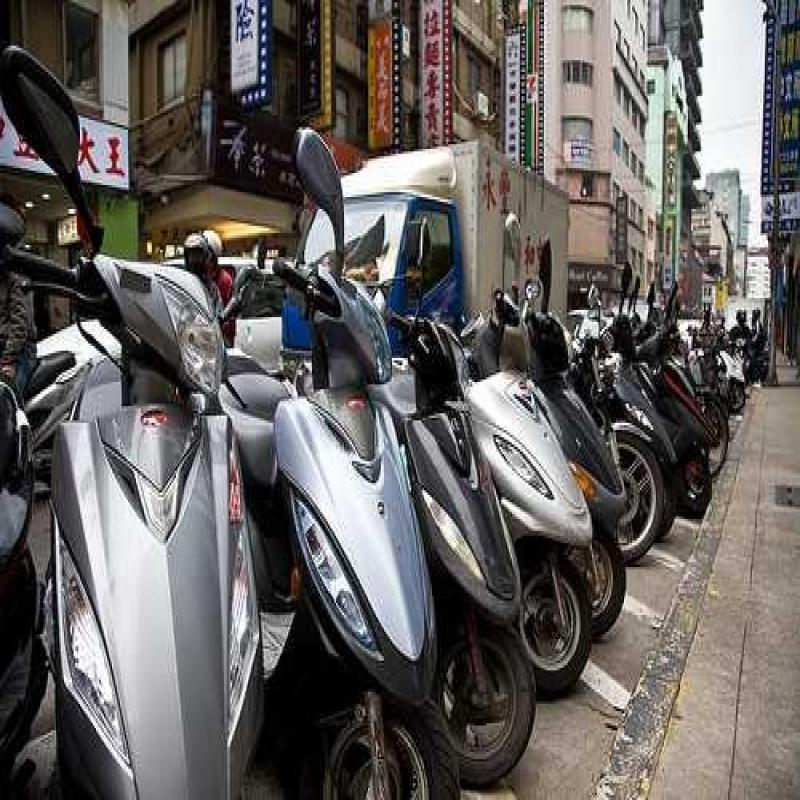bike: (29, 115, 275, 800), (235, 146, 451, 800), (456, 272, 618, 688), (520, 266, 657, 630)
